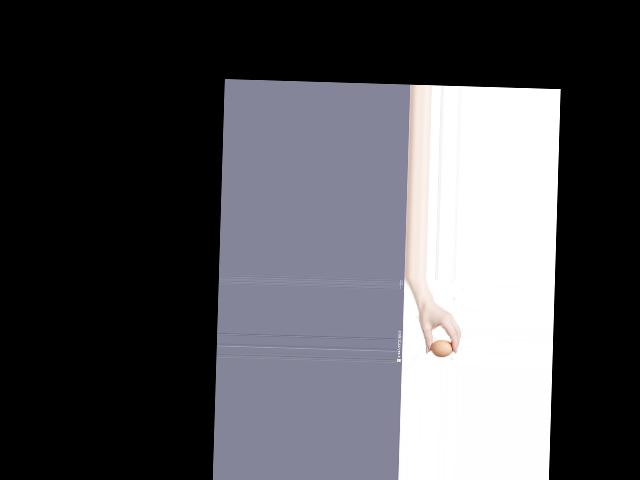egg: (430, 338, 452, 357)
